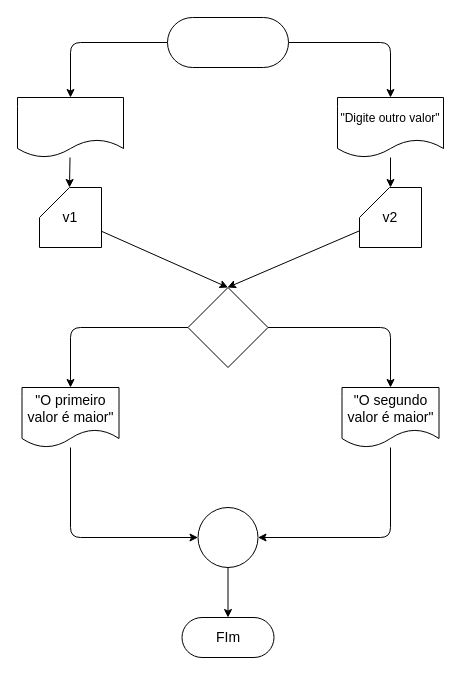
Image size: 461x675. Some labels were removed from this diagram. Each missing label, with the centre of its shape:
"Digite um valor": the point at 70,127
Início: the point at 227,42
v1 > v2: the point at 227,327
